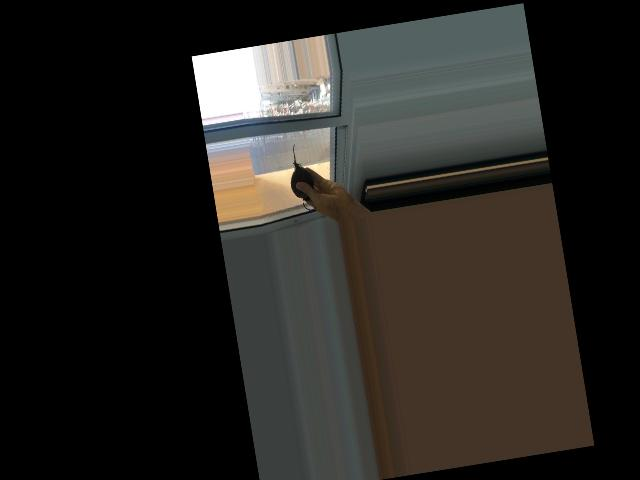beet: (284, 140, 324, 212)
